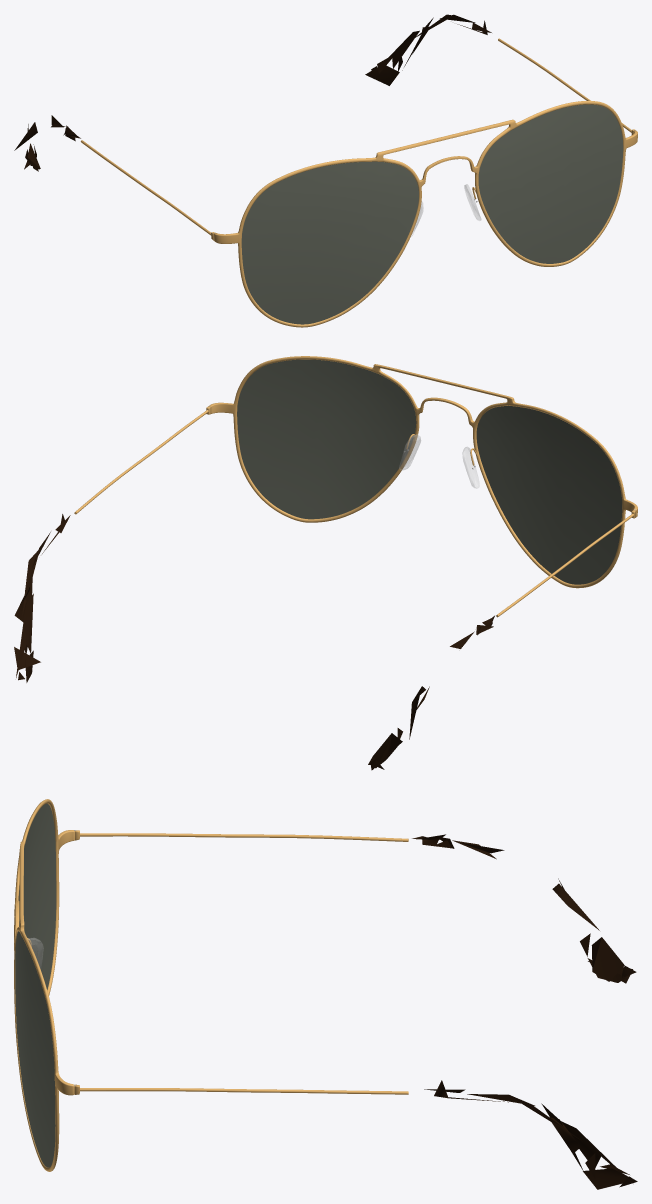
Rendered from aviator_fixed_origin2.glb.
The picture shows the model from 3 angles, top to bottom: view 1: azimuth 30°, elevation 25°; view 2: azimuth 150°, elevation 25°; view 3: azimuth 270°, elevation 25°; orthographic projection. The views are drawn at different scales.
Parts seen in each view (by area): view 1: Aviators_Glass tinted_0, Aviators_Gold metallic_0, Aviators_Black gloss_0; view 2: Aviators_Glass tinted_0, Aviators_Gold metallic_0, Aviators_Black gloss_0, Aviators_Transparent_0; view 3: Aviators_Glass tinted_0, Aviators_Gold metallic_0, Aviators_Black gloss_0.
Boxes of the visible parts, bbox=[...] form: Aviators_Glass tinted_0: bbox=[241, 104, 623, 324]; Aviators_Gold metallic_0: bbox=[80, 38, 637, 327]; Aviators_Black gloss_0: bbox=[14, 14, 491, 171]; Aviators_Glass tinted_0: bbox=[237, 359, 622, 584]; Aviators_Gold metallic_0: bbox=[74, 356, 637, 617]; Aviators_Black gloss_0: bbox=[14, 514, 494, 770]; Aviators_Transparent_0: bbox=[399, 434, 479, 488]; Aviators_Glass tinted_0: bbox=[15, 803, 56, 1167]; Aviators_Gold metallic_0: bbox=[14, 799, 408, 1171]; Aviators_Black gloss_0: bbox=[412, 834, 637, 1189].
Size of the model in its own units: 0.1412 by 0.0522 by 0.1435.
